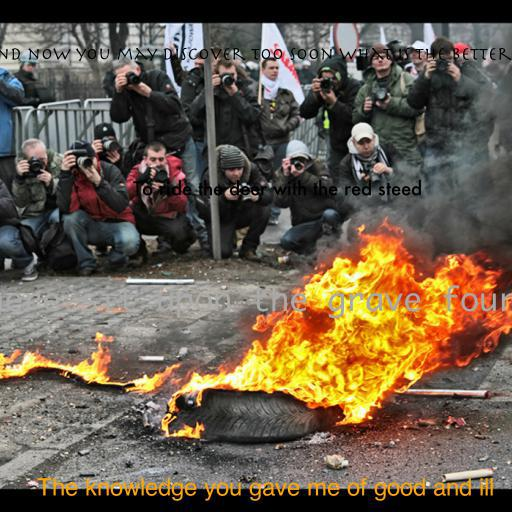Big Caslon: (36, 478, 494, 501)
Futura: (132, 179, 422, 196)
Herculanum: (0, 47, 512, 62)
Monaco: (0, 285, 512, 319)
